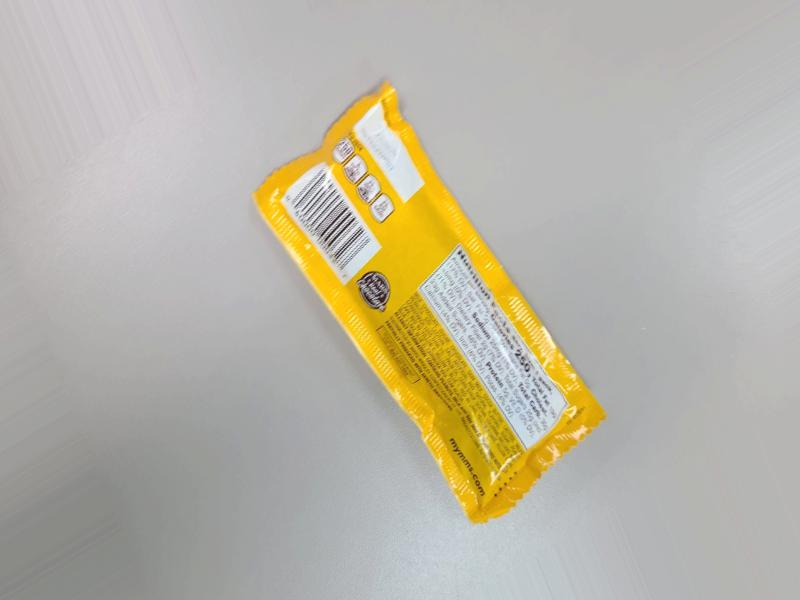m&m: (267, 114, 636, 538)
